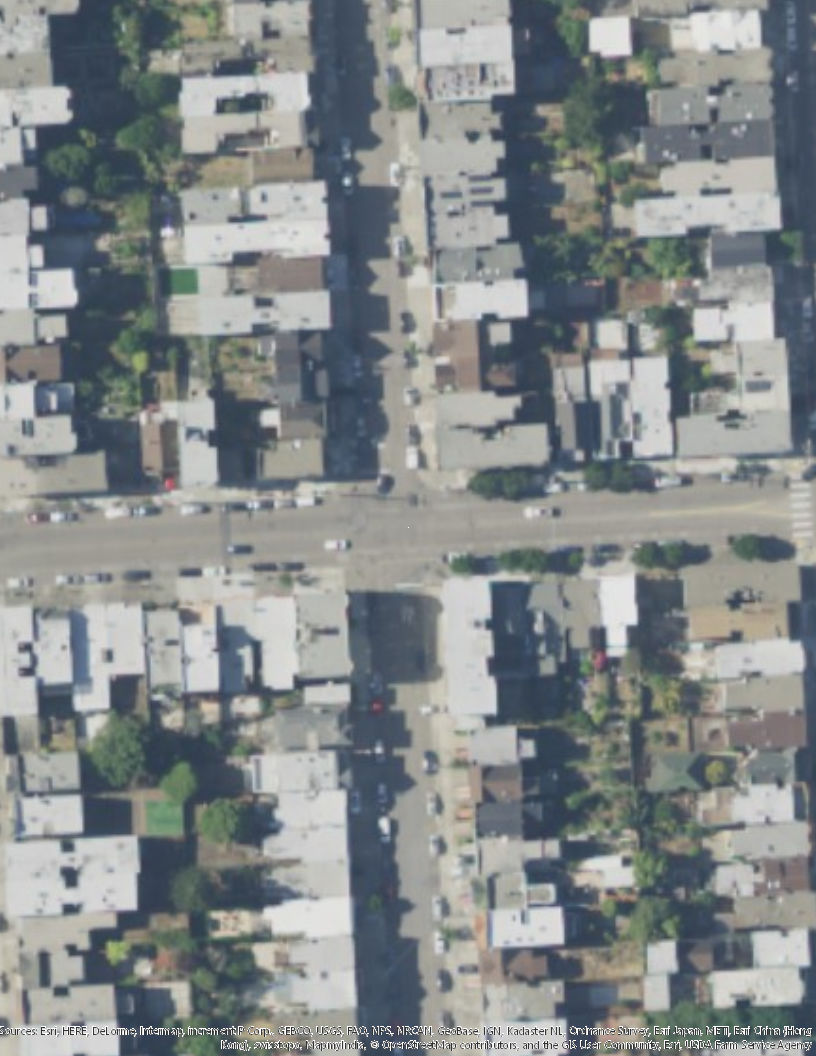zebracross: (787, 474, 814, 535)
